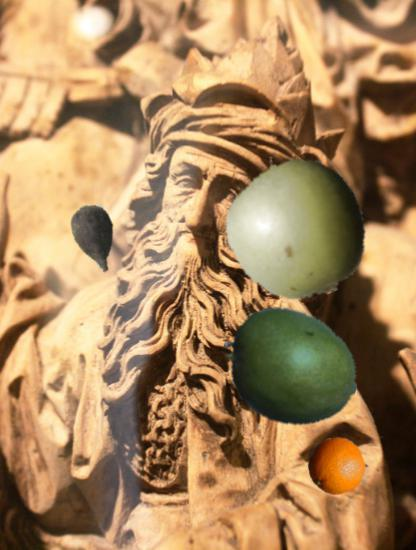Apple: (221, 153, 370, 302)
Beetroot: (59, 201, 133, 275)
Mango: (220, 298, 360, 438)
Orange: (307, 437, 366, 496)
